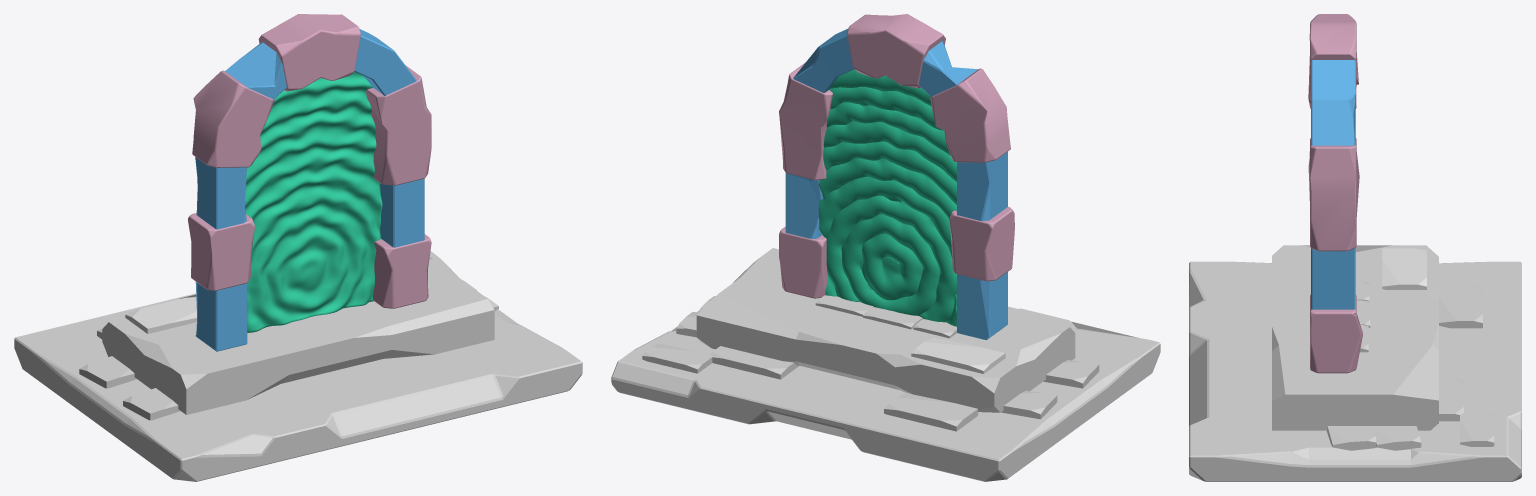
The model's file is Portal.fbx.
3 renders of one model, left to right at view 1: azimuth 30°, elevation 25°; view 2: azimuth 150°, elevation 25°; view 3: azimuth 270°, elevation 25°, orthographic. The views are drawn at different scales.
Parts seen in each view (by area): view 1: Plane.004, Plane.003, Plane.001, Plane.002, Plane, Cube, Cube.011, Cube.009; view 2: Plane.004, Plane.003, Plane.002, Plane.001, Plane, Cube.004, Cube, Cube.005, Cube.006, Cube.011, Cube.009, Cube.002 (+1 smaller); view 3: Plane.004, Plane.002, Plane.001, Plane, Cube.004, Cube, Cube.006, Cube.007, Cube.005, Cube.008.
Boxes of the visible parts, x1,y1,x2,y2 form: Plane.004: (14, 251, 582, 481); Plane.003: (245, 71, 382, 332); Plane.001: (188, 14, 431, 308); Plane.002: (102, 257, 494, 414); Plane: (195, 29, 424, 351); Cube: (125, 296, 196, 333); Cube.011: (79, 356, 136, 388); Cube.009: (123, 388, 180, 420); Plane.004: (611, 248, 1160, 481); Plane.003: (818, 69, 956, 326); Plane.002: (696, 255, 1075, 412); Plane.001: (779, 14, 1014, 298); Plane: (785, 29, 1007, 340); Cube.004: (884, 393, 978, 431); Cube: (911, 337, 1005, 373); Cube.005: (710, 346, 799, 379); Cube.006: (642, 343, 712, 373); Cube.011: (1001, 391, 1057, 419); Cube.009: (1043, 360, 1099, 388); Cube.002: (863, 307, 922, 329); Plane.004: (1189, 261, 1521, 481); Plane.002: (1272, 245, 1438, 430); Plane.001: (1308, 14, 1362, 373); Plane: (1311, 60, 1355, 309); Cube.004: (1439, 284, 1482, 328); Cube: (1382, 248, 1426, 289); Cube.006: (1460, 413, 1494, 446); Cube.007: (1327, 426, 1376, 450); Cube.005: (1439, 377, 1463, 421); Cube.008: (1371, 426, 1421, 450).
Size of the model in its own units: 553 by 476 by 399.
